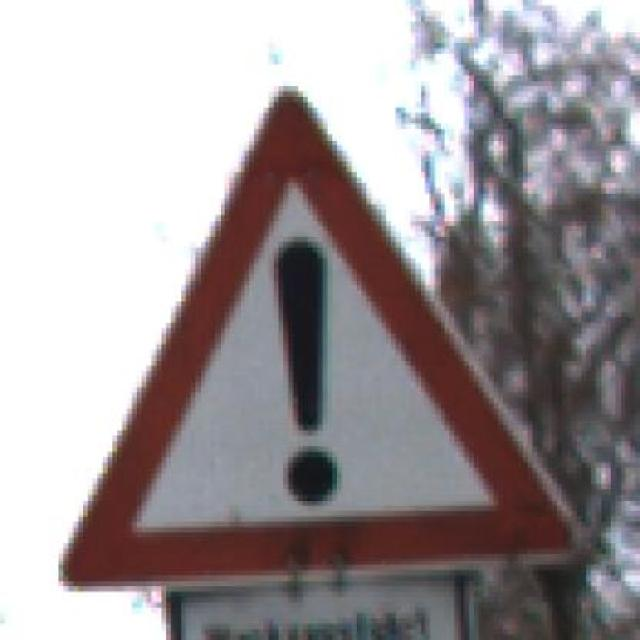Attention Please-: (44, 70, 621, 592)
